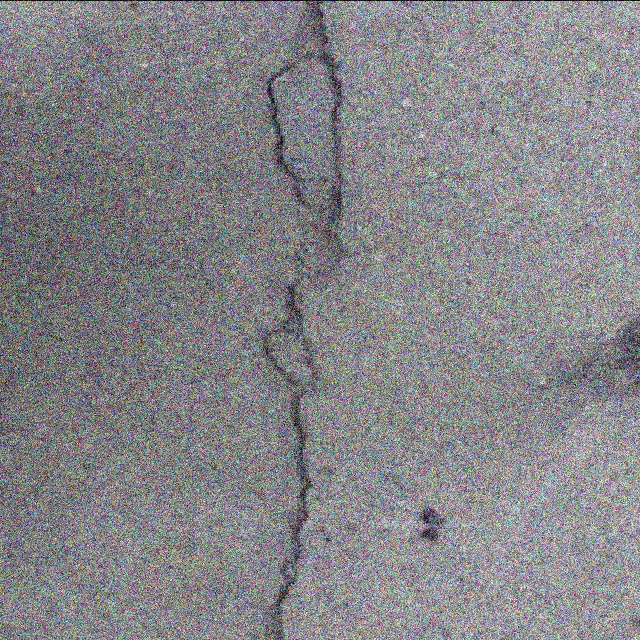SurfaceCrack: (232, 10, 378, 640)
